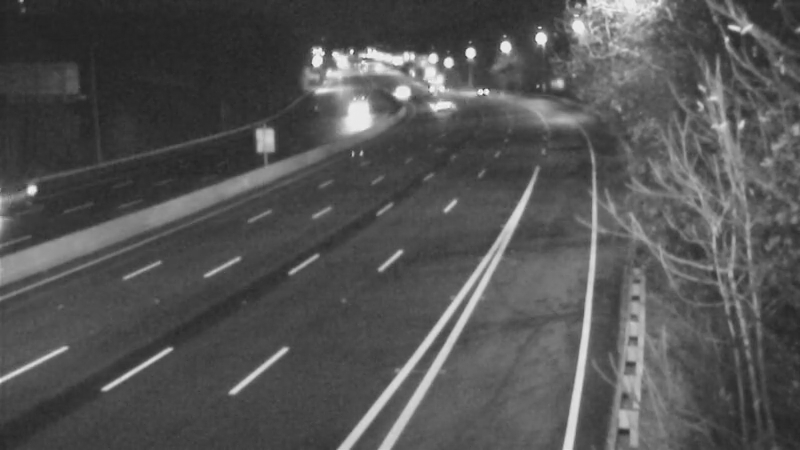vehicle: (1, 151, 66, 231), (456, 65, 506, 115), (411, 65, 461, 115), (375, 65, 425, 115), (411, 84, 461, 134), (329, 91, 379, 141)
